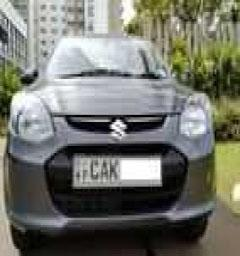car: (7, 26, 232, 252)
